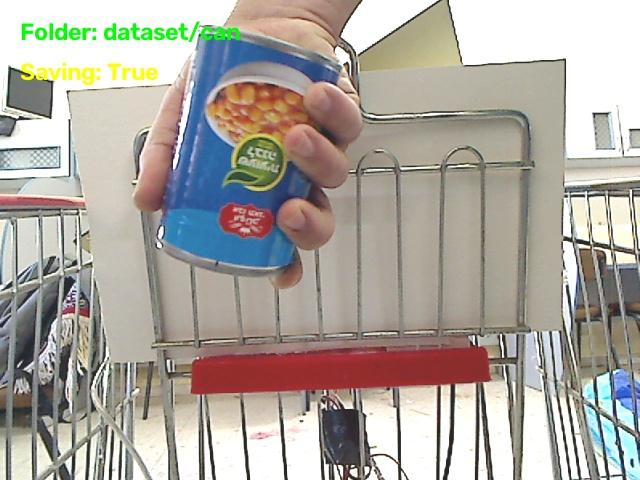can: (158, 32, 340, 275)
